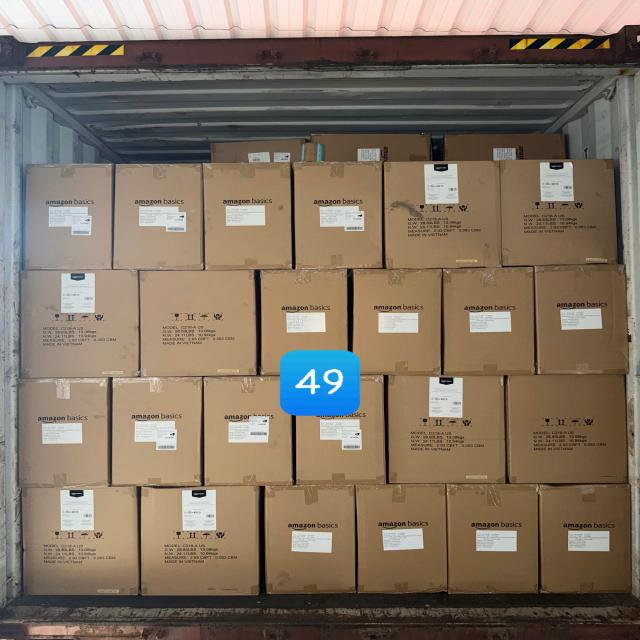Carton: (17, 486, 144, 598), (140, 487, 264, 598), (384, 374, 509, 484), (503, 377, 629, 483), (383, 160, 502, 270), (18, 272, 143, 376), (141, 268, 257, 375), (499, 159, 615, 264), (536, 482, 636, 596), (446, 482, 542, 598), (436, 269, 536, 378), (15, 376, 114, 486), (533, 264, 630, 376), (265, 484, 361, 597), (202, 160, 296, 271), (292, 157, 383, 269), (350, 268, 443, 377), (112, 161, 204, 271), (110, 374, 199, 486), (20, 162, 112, 270), (261, 270, 352, 379), (294, 376, 384, 484), (359, 484, 447, 594), (205, 375, 292, 486)
